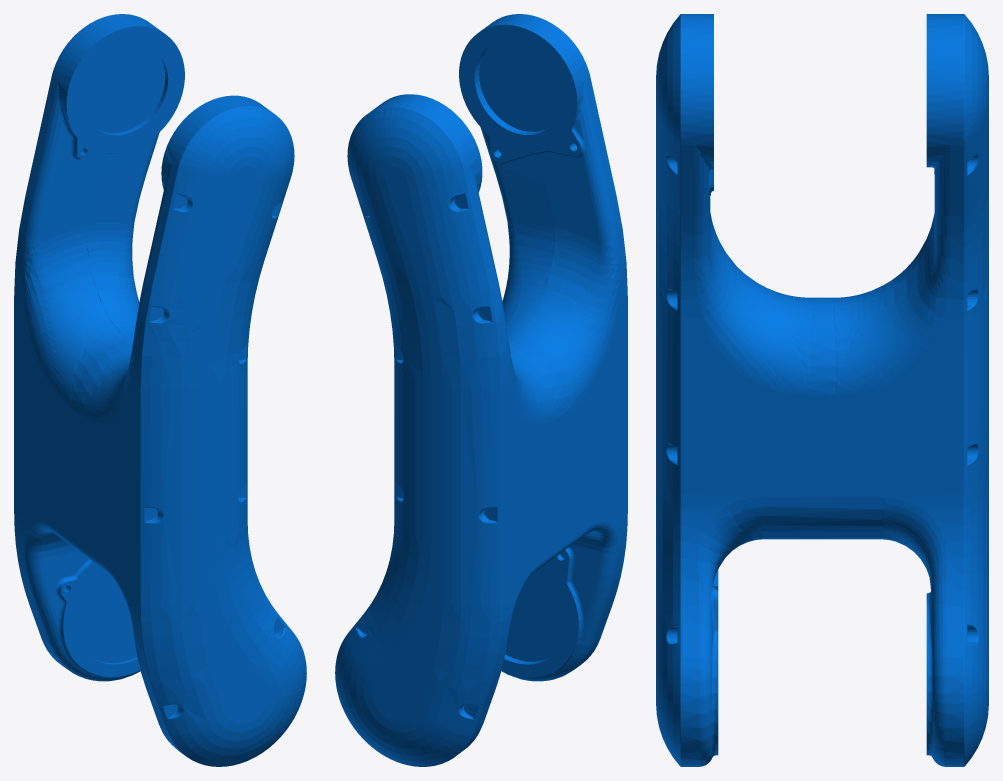
The model's file is MotomanGP7Link2.dae.
3 views of the same model, side by side, from view 1: azimuth 30°, elevation 25°; view 2: azimuth 150°, elevation 25°; view 3: azimuth 270°, elevation 25° (orthographic). The views are drawn at different scales.
Visible parts, largest first — view 1: node_9a0a61e7_de24_4fa8_aaf6_646defcb59a0_mesh0; view 2: node_9a0a61e7_de24_4fa8_aaf6_646defcb59a0_mesh0; view 3: node_9a0a61e7_de24_4fa8_aaf6_646defcb59a0_mesh0.
Boxes of the visible parts, x1,y1,x2,y2 form: node_9a0a61e7_de24_4fa8_aaf6_646defcb59a0_mesh0: [14, 14, 306, 766]; node_9a0a61e7_de24_4fa8_aaf6_646defcb59a0_mesh0: [335, 14, 627, 766]; node_9a0a61e7_de24_4fa8_aaf6_646defcb59a0_mesh0: [656, 14, 988, 766].
Size of the model in its own units: 0.149 by 0.23 by 0.562.
